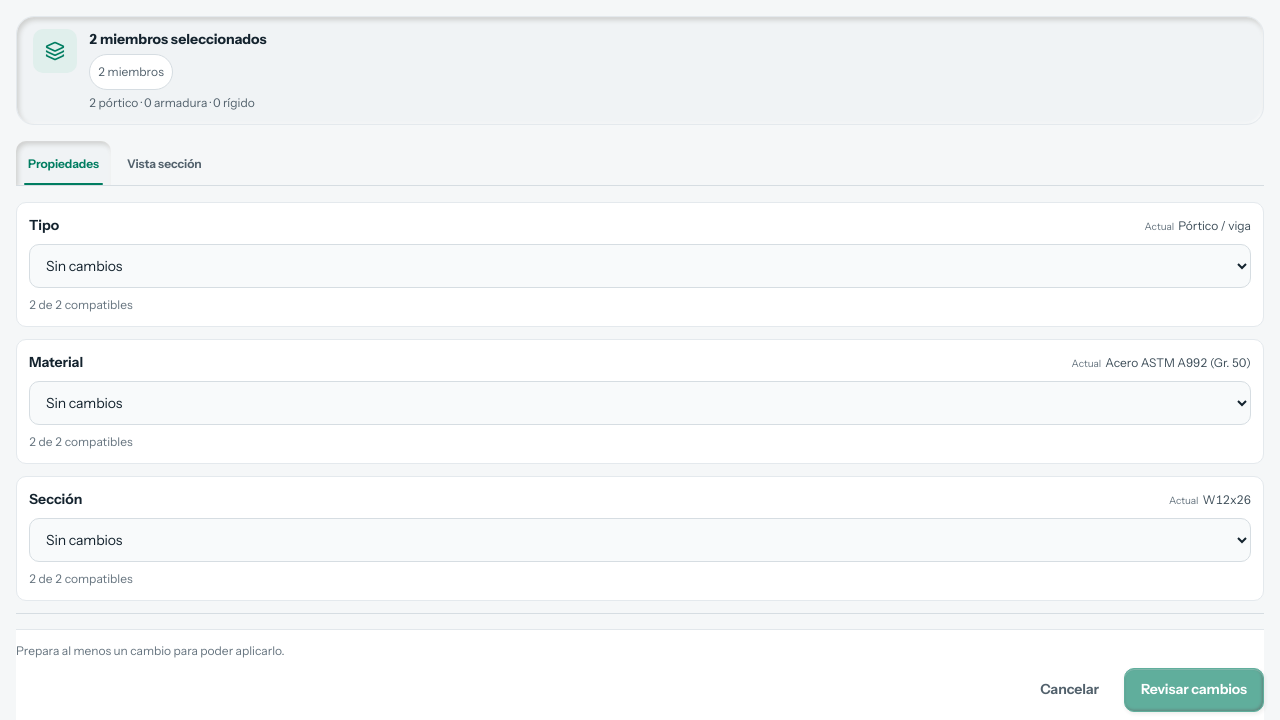
Test: BulkEditPanel · unambiguous back-out › does not give the destructive cancel and the review back-out the same label
Select "W12x53" in the dropdown labelled "Sección" at (640, 540), box [29, 518, 1251, 562]
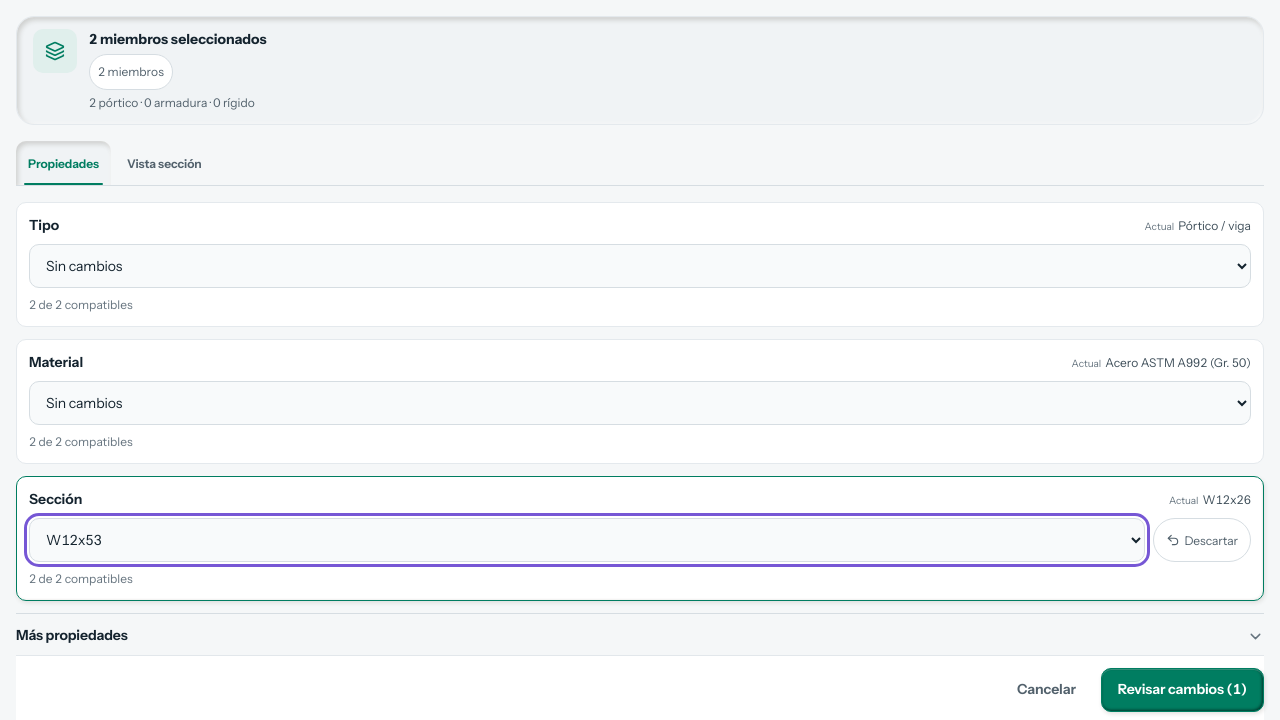
Expected: the button "Cancelar" is shown, [1000, 668, 1093, 712]
Expected: the button "Volver a editar" is not shown
Click the button "Revisar cambios (1)" at (1182, 690), box [1101, 668, 1264, 712]
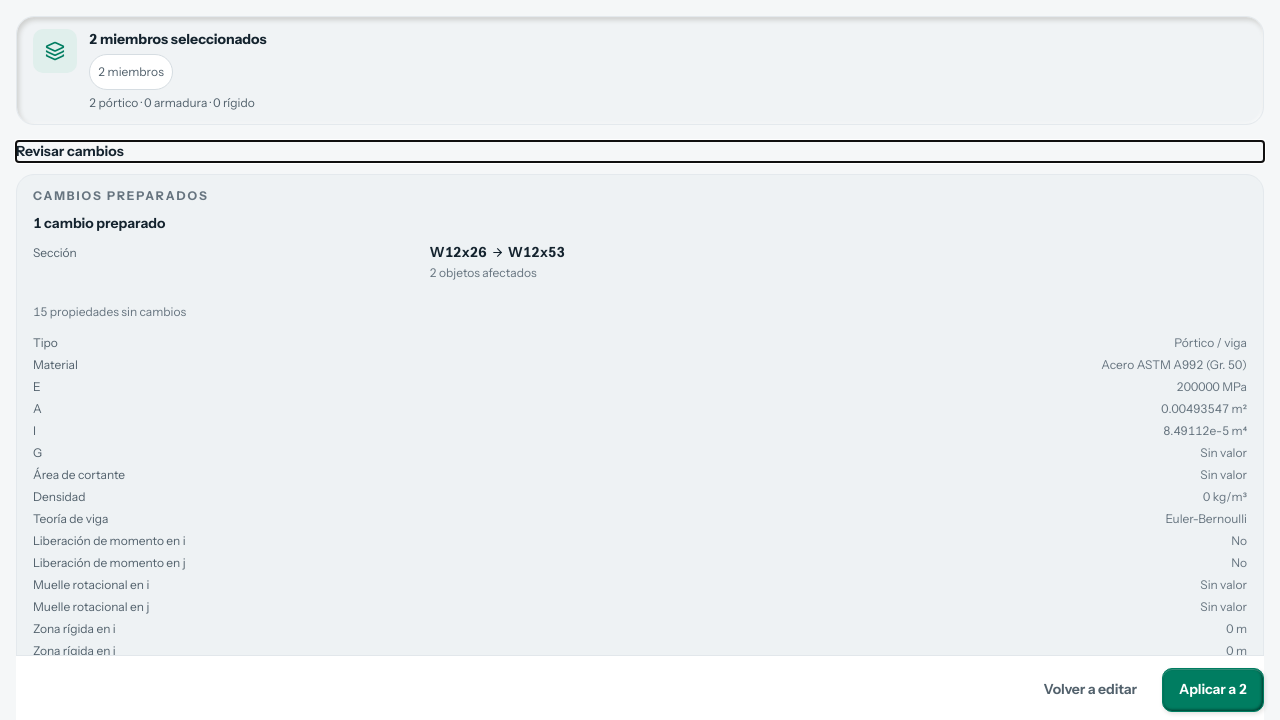
Expected: the button "Volver a editar" is shown, [1027, 668, 1154, 712]
Expected: the button "Cancelar" is gone
